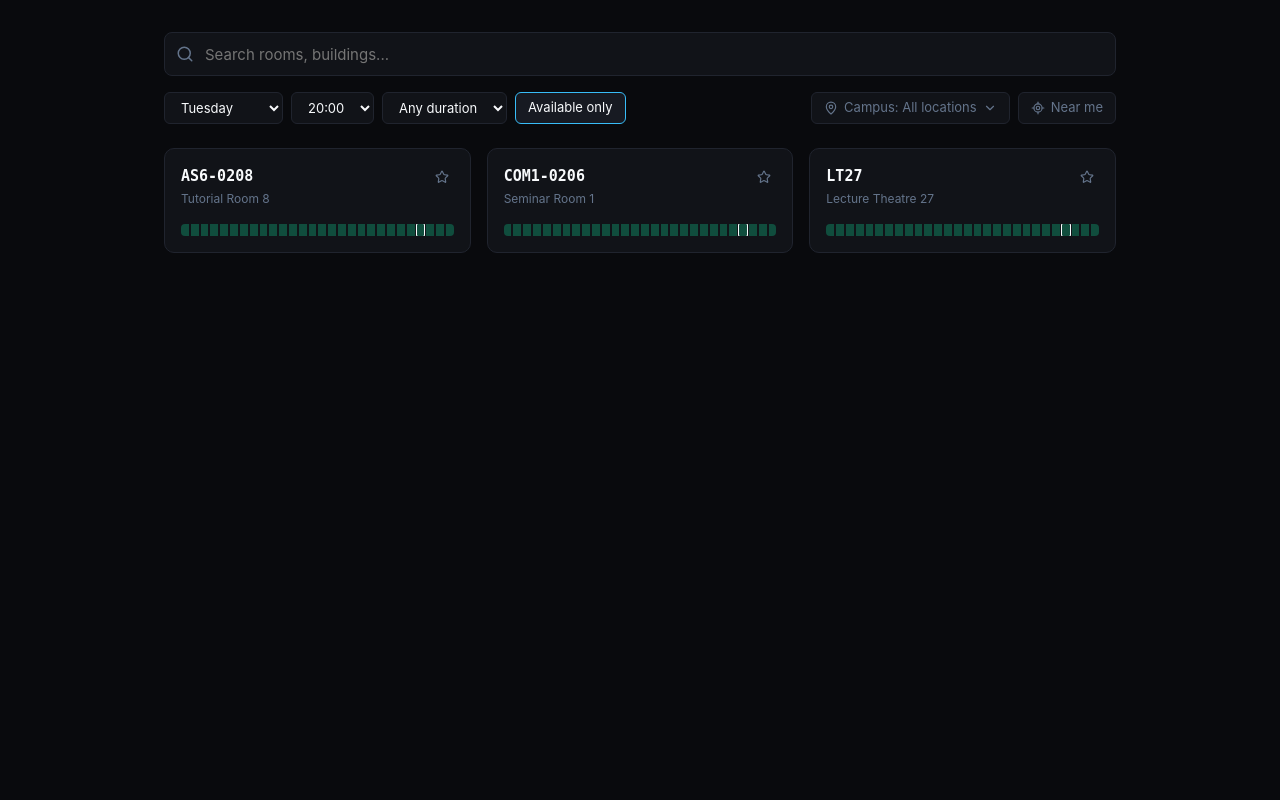
Scenario: VenueFinder › opens venue detail sheet on card click and displays class schedule
Expected: the heading "COM1-0206" is shown, 504,165 -> 594,188
Select "Monday" in the 1st dropdown at {"x": 224, "y": 108}, box 164,92 -> 283,124
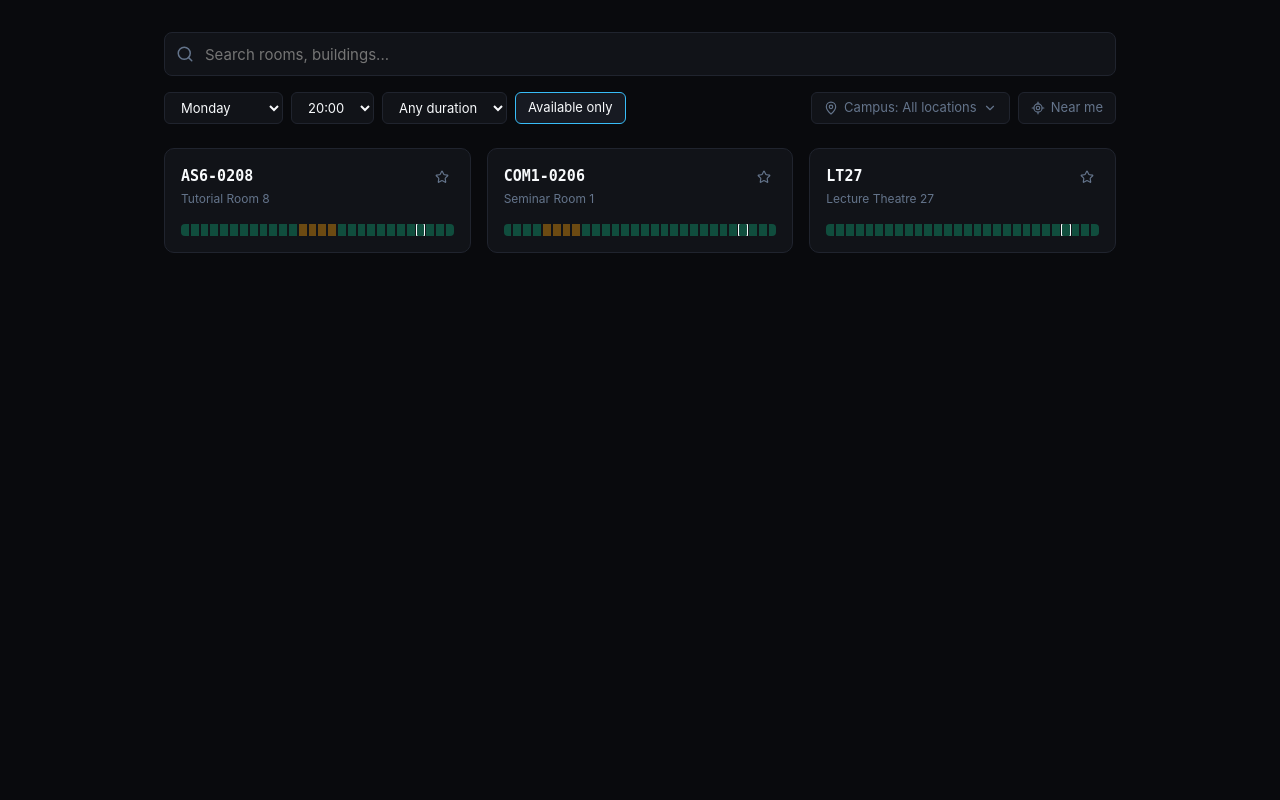
Click the button "Available only" at {"x": 570, "y": 108}, box 515,92 -> 626,124
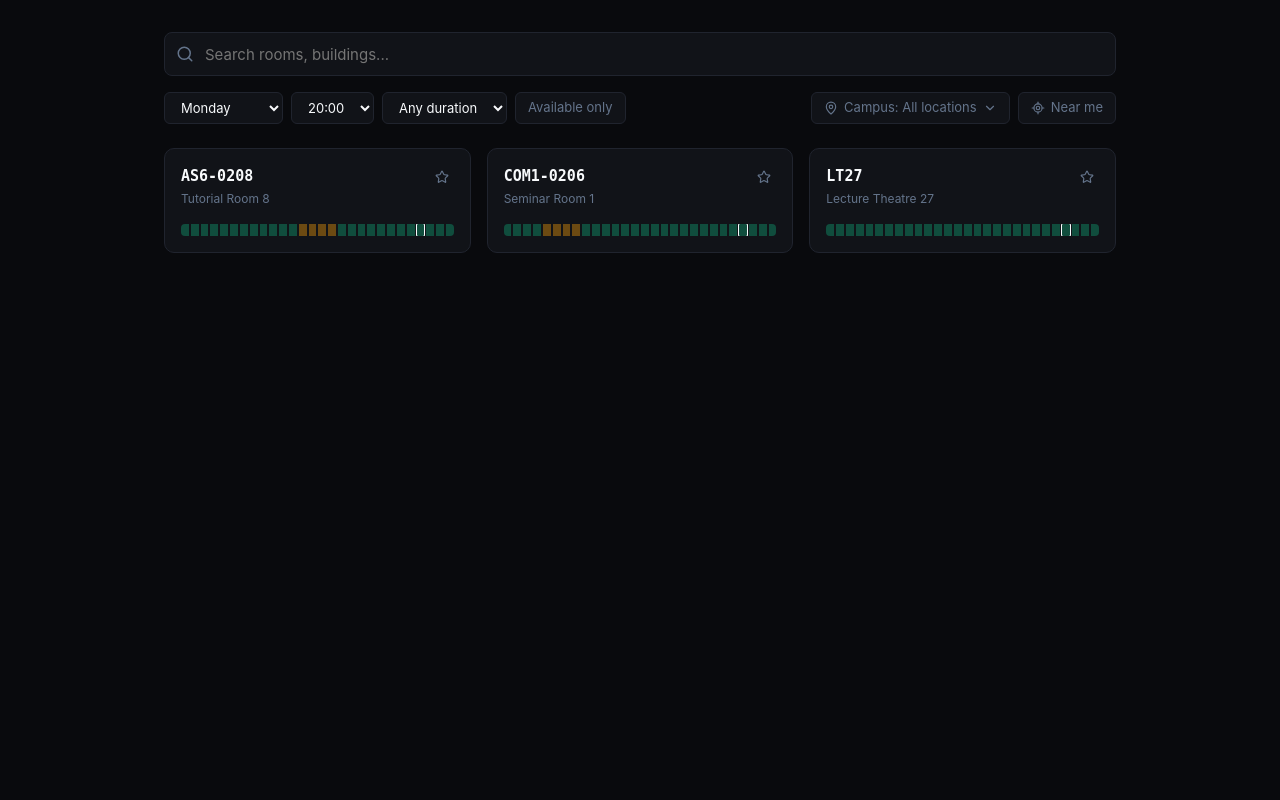
Click the text "COM1-0206" at {"x": 640, "y": 200}, box 487,148 -> 793,252
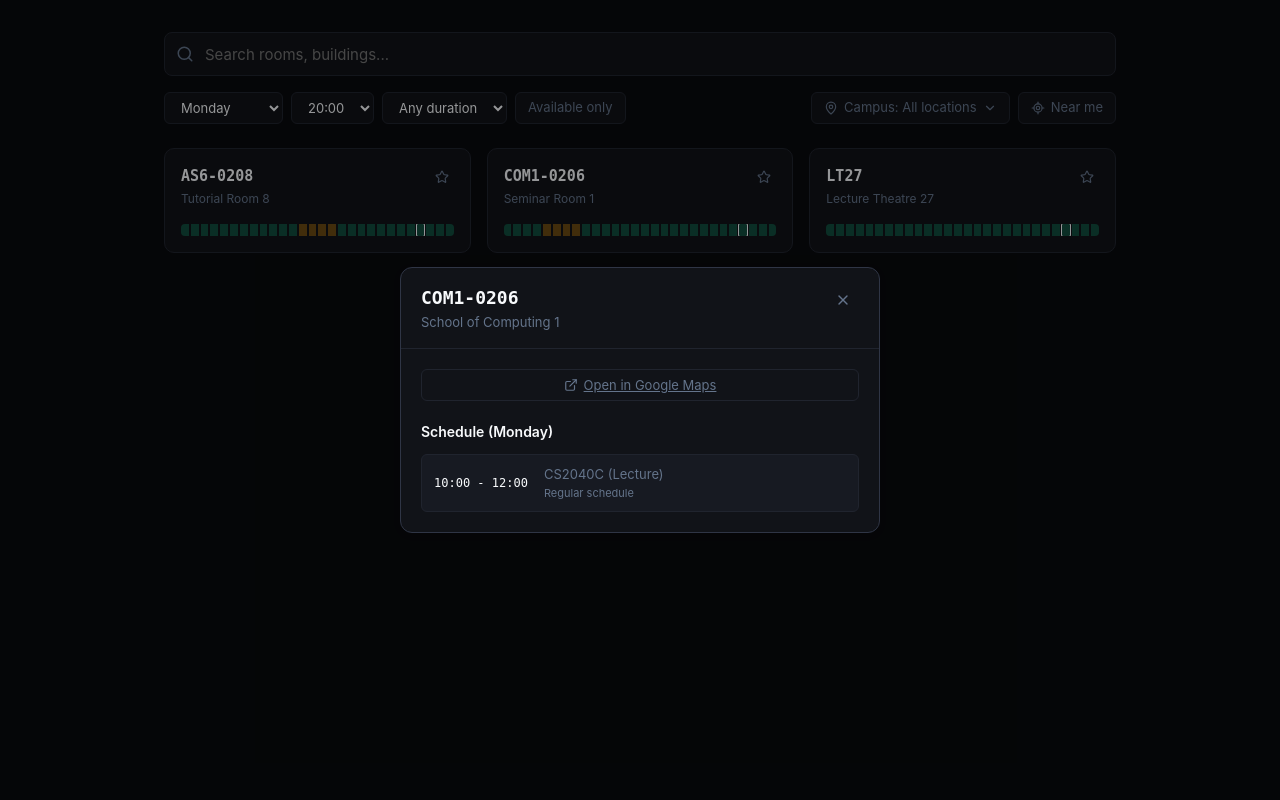
Result: the text "CS2040C (Lecture)" is shown at 544,465 -> 664,485
